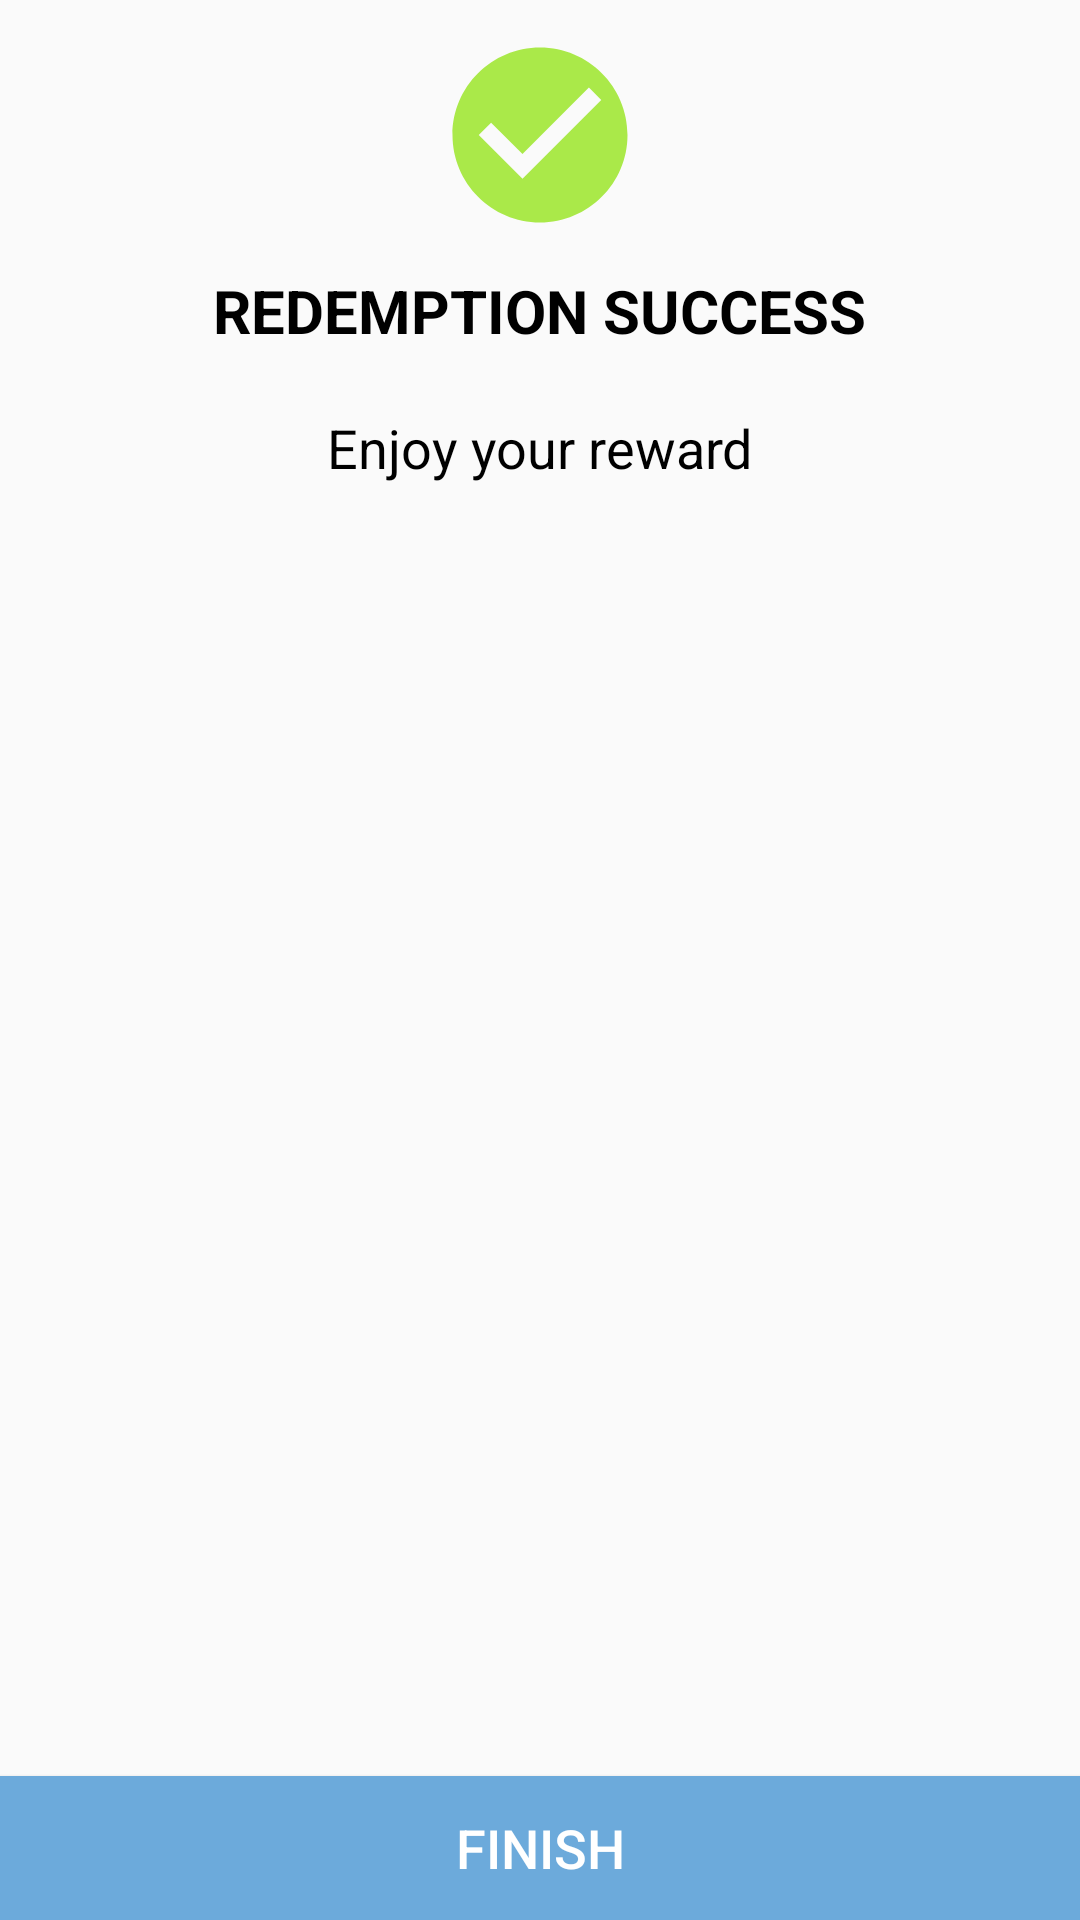

Where icons sit on this 1080w x 1920h app screen, as (x1, y1, x2, y2):
successicon: (452, 47, 628, 223)
